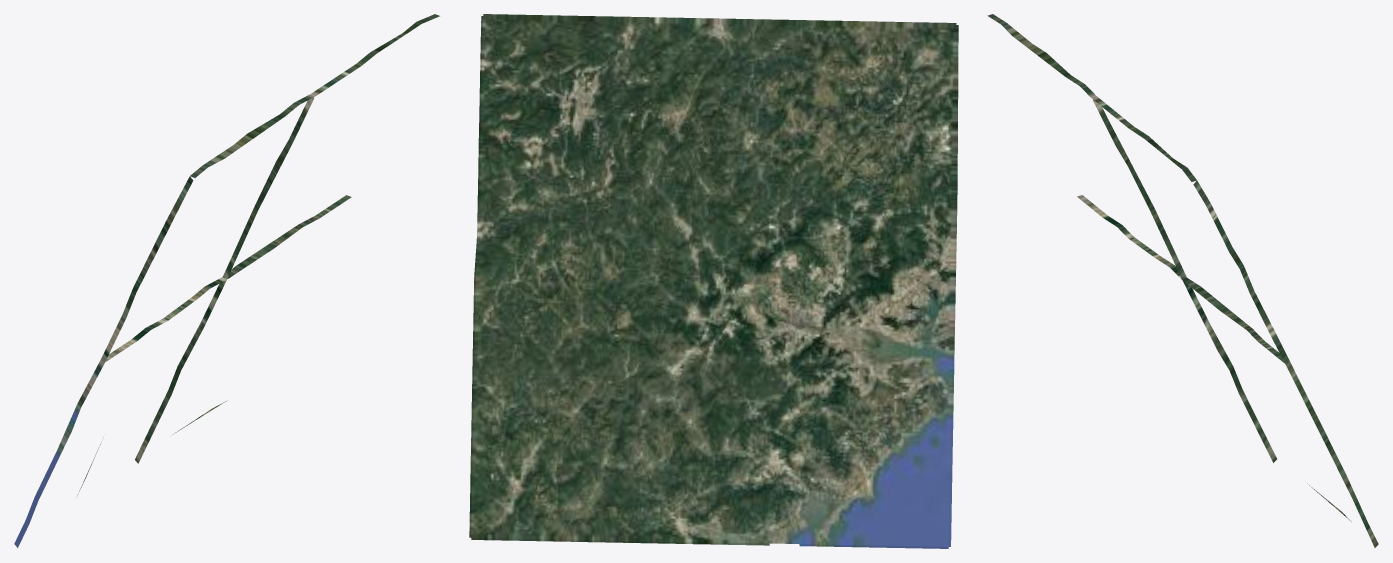
3 renders of one model, left to right at view 1: azimuth 30°, elevation 25°; view 2: azimuth 150°, elevation 25°; view 3: azimuth 270°, elevation 25°, orthographic. The views are drawn at different scales.
Bounding box in the file's own units: 157771 × 144480 × 125403.
Materials: 1 (1 with a texture image).
